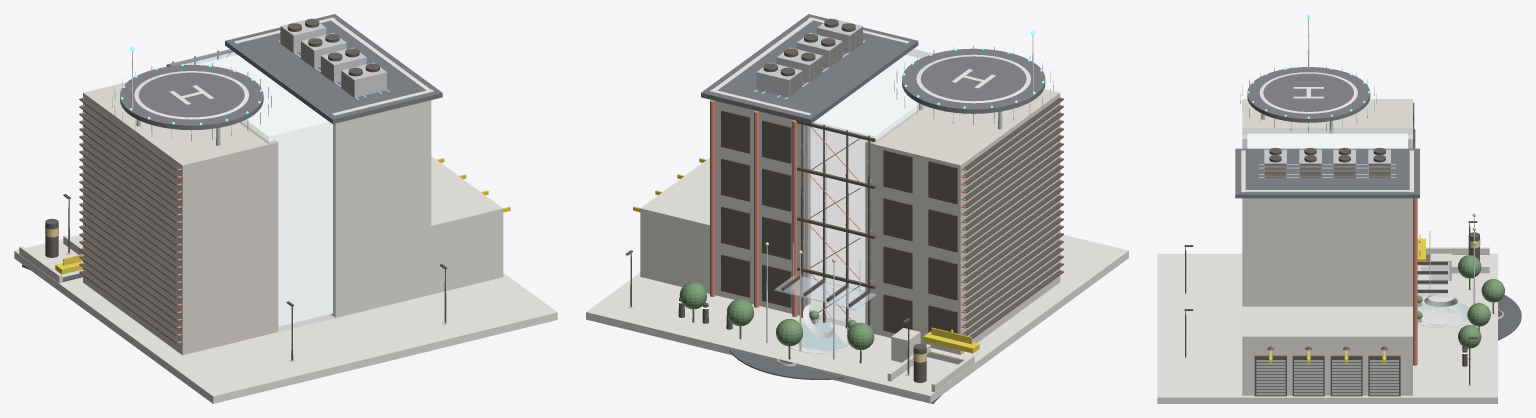
The model's file is hq_01_corporate_l4.glb.
3 views of the same model, side by side, from view 1: azimuth 30°, elevation 25°; view 2: azimuth 150°, elevation 25°; view 3: azimuth 270°, elevation 25° (orthographic). The views are drawn at different scales.
Parts seen in each view (by area): view 1: GEO_L4_West_Tower_Core, GEO_L4_Base_Plinth, GEO_L4_East_Tower_Core, GEO_L4_Atrium_Glass, GEO_L4_Atrium_Glow, GEO_L4_Boardroom_Aero_Canopy, GEO_L4_Workshop_4Bay_Core, GEO_L4_Helipad_Deck, GEO_L4_Chiller_0, GEO_L4_Heli_Ring, GEO_L4_Chiller_1, GEO_L4_Chiller_3 (+27 smaller); view 2: GEO_L4_West_Tower_Core, GEO_L4_Base_Plinth, GEO_L4_Atrium_Glow, GEO_L4_Atrium_Glass, GEO_L4_Boardroom_Aero_Canopy, GEO_L4_East_Tower_Core, GEO_L4_Workshop_4Bay_Core, GEO_L4_Helipad_Deck, GEO_L4_VIP_Canopy_Glass, GEO_L4_Pool_Curb, GEO_L4_Roundabout_Drive, GEO_L4_East_Col_1 (+59 smaller); view 3: GEO_L4_Base_Plinth, GEO_L4_East_Tower_Core, GEO_L4_Workshop_4Bay_Core, GEO_L4_Boardroom_Aero_Canopy, GEO_L4_Helipad_Deck, GEO_L4_West_Tower_Core, GEO_L4_Atrium_Glass, GEO_L4_Atrium_Glow, GEO_L4_Pool_Curb, GEO_L4_East_Col_2, GEO_L4_VIP_Canopy_Glass, GEO_L4_Roundabout_Drive (+17 smaller).
Boxes of the visible parts, x1,y1,x2,y2 form: GEO_L4_West_Tower_Core: (83, 82, 278, 355); GEO_L4_Base_Plinth: (14, 235, 557, 403); GEO_L4_East_Tower_Core: (236, 54, 431, 317); GEO_L4_Atrium_Glass: (169, 49, 344, 331); GEO_L4_Atrium_Glow: (196, 54, 332, 326); GEO_L4_Boardroom_Aero_Canopy: (225, 14, 442, 123); GEO_L4_Workshop_4Bay_Core: (426, 156, 503, 294); GEO_L4_Helipad_Deck: (120, 65, 263, 129); GEO_L4_Chiller_0: (341, 62, 386, 97); GEO_L4_Heli_Ring: (134, 71, 249, 119); GEO_L4_Chiller_1: (321, 47, 366, 82); GEO_L4_Chiller_3: (280, 18, 326, 52); GEO_L4_West_Tower_Core: (865, 89, 1060, 354); GEO_L4_Base_Plinth: (586, 235, 1128, 403); GEO_L4_Atrium_Glow: (810, 55, 923, 323); GEO_L4_Atrium_Glass: (798, 49, 932, 333); GEO_L4_Boardroom_Aero_Canopy: (701, 14, 918, 123); GEO_L4_East_Tower_Core: (715, 54, 907, 315); GEO_L4_Workshop_4Bay_Core: (640, 158, 716, 295); GEO_L4_Helipad_Deck: (902, 48, 1045, 113); GEO_L4_VIP_Canopy_Glass: (774, 275, 876, 310); GEO_L4_Pool_Curb: (787, 320, 851, 353); GEO_L4_Roundabout_Drive: (729, 349, 844, 379); GEO_L4_East_Col_1: (754, 110, 759, 307); GEO_L4_Base_Plinth: (1157, 253, 1497, 403); GEO_L4_East_Tower_Core: (1242, 198, 1412, 306); GEO_L4_Workshop_4Bay_Core: (1242, 306, 1412, 395); GEO_L4_Boardroom_Aero_Canopy: (1235, 148, 1419, 198); GEO_L4_Helipad_Deck: (1247, 67, 1370, 122); GEO_L4_West_Tower_Core: (1242, 99, 1412, 148); GEO_L4_Atrium_Glass: (1242, 128, 1412, 148); GEO_L4_Atrium_Glow: (1247, 133, 1407, 148); GEO_L4_Pool_Curb: (1417, 299, 1470, 327); GEO_L4_East_Col_2: (1413, 198, 1417, 365); GEO_L4_VIP_Canopy_Glass: (1417, 261, 1449, 296); GEO_L4_Roundabout_Drive: (1498, 294, 1521, 340).
Size of what is drawn, in the model's own units: 38.18 by 29.52 by 38.5.
